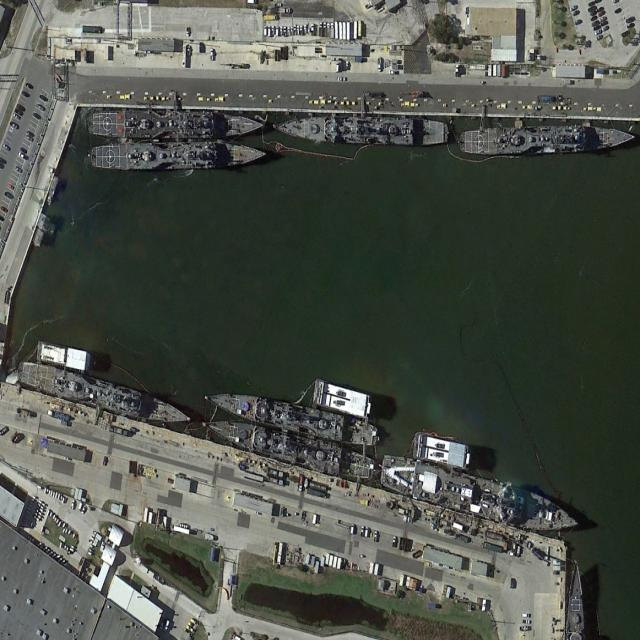Destroyer: (378, 450, 580, 543)
Frigate: (17, 356, 191, 431), (199, 412, 376, 482), (203, 382, 380, 449), (462, 122, 633, 156), (273, 114, 448, 144), (86, 109, 263, 137), (89, 141, 265, 169)
